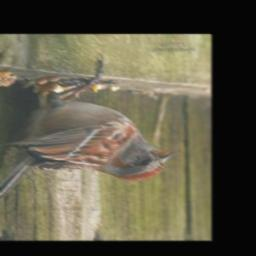Sparrow: (0, 54, 175, 214)
